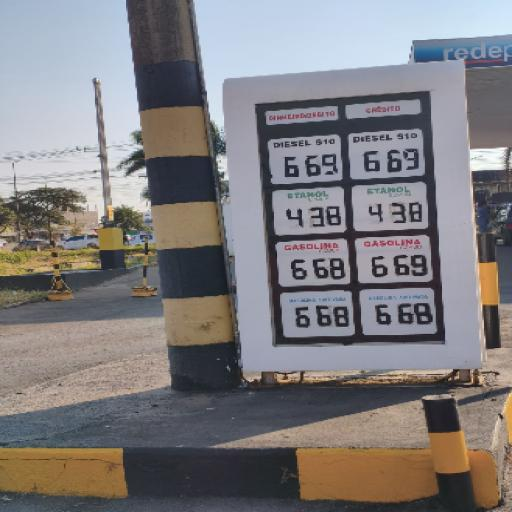ETANOL: (276, 190, 345, 204)
GASOLINA AD: (281, 294, 350, 305)
GASOLINA C: (281, 242, 348, 253)
S10: (270, 134, 338, 152)
placa: (228, 69, 481, 368)
preco: (284, 306, 354, 331), (276, 155, 342, 181), (278, 206, 345, 230), (283, 257, 347, 281)
